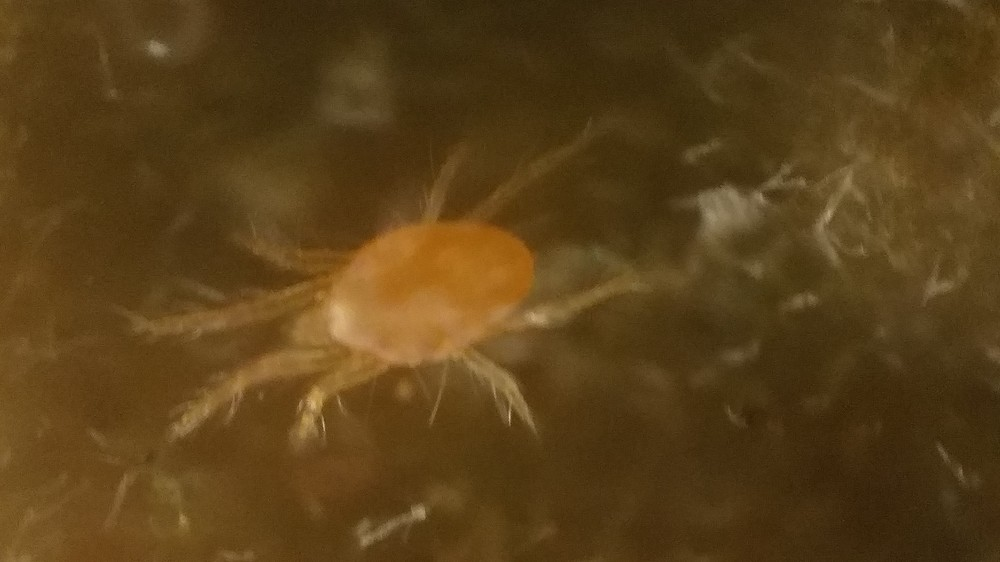Aracnido Rojo: (123, 120, 663, 478)
